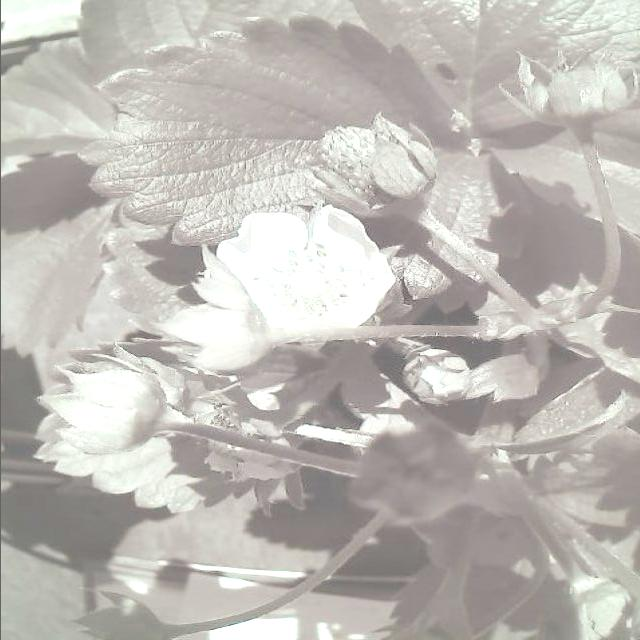flower: (205, 199, 402, 357)
